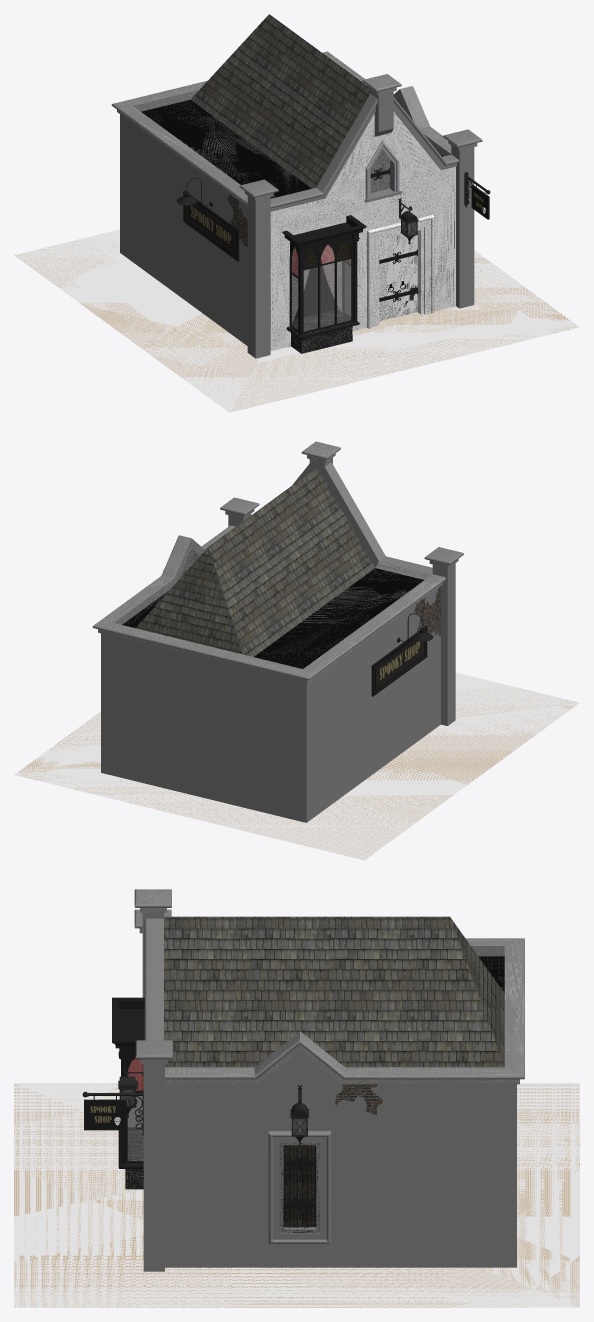
The model's file is spooky_shop.dae.
3 renders of one model, top to bottom at view 1: azimuth 30°, elevation 25°; view 2: azimuth 150°, elevation 25°; view 3: azimuth 270°, elevation 25°, orthographic. The views are drawn at different scales.
Visible parts, largest first — view 1: spooky_shop_1 (×9), uijjkkmnnbhgbn, _7866gghh665456 (×3), _8977uujjhh89_1 (×2), middenst (×4), erker56_1 (×3), instance_37, _786yhhgjjkkhbnmjh, _8977uujjhh89, pilar5678; view 2: _7866gghh665456 (×3), spooky_shop_1 (×3), uijjkkmnnbhgbn, _8977uujjhh89_1, instance_37; view 3: _7866gghh665456 (×5), uijjkkmnnbhgbn, spooky_shop_1 (×3), _8977uujjhh89_1 (×2), _786yuujhgtftg7, erker56_1 (×2), hjbbnnvvvcc, thujk, _8977uujjhh89.
Boxes of the visible parts, x1,y1,x2,y2 form: spooky_shop_1 (×9): (141, 14, 458, 350); uijjkkmnnbhgbn: (14, 229, 579, 412); _7866gghh665456 (×3): (111, 51, 451, 345); _8977uujjhh89_1 (×2): (247, 145, 474, 358); middenst (×4): (303, 235, 353, 333); erker56_1 (×3): (282, 215, 366, 353); instance_37: (183, 190, 239, 261); _786yhhgjjkkhbnmjh: (294, 261, 334, 318); _8977uujjhh89: (370, 90, 393, 136); pilar5678: (296, 246, 305, 335); _7866gghh665456 (×3): (92, 525, 445, 822); spooky_shop_1 (×3): (136, 462, 432, 668); uijjkkmnnbhgbn: (14, 672, 579, 860); _8977uujjhh89_1: (432, 563, 455, 725); instance_37: (371, 626, 427, 696); _7866gghh665456 (×5): (165, 938, 524, 1267); uijjkkmnnbhgbn: (14, 1083, 579, 1307); spooky_shop_1 (×3): (144, 916, 504, 1067); _8977uujjhh89_1 (×2): (135, 1040, 172, 1271); _786yuujhgtftg7: (283, 1145, 316, 1227); erker56_1 (×2): (112, 997, 144, 1048); hjbbnnvvvcc: (85, 1102, 125, 1128); thujk: (127, 1096, 143, 1160); _8977uujjhh89: (134, 889, 171, 907).
Size of the model in its own units: 462 by 491 by 305.
30 materials, 14 textured.
